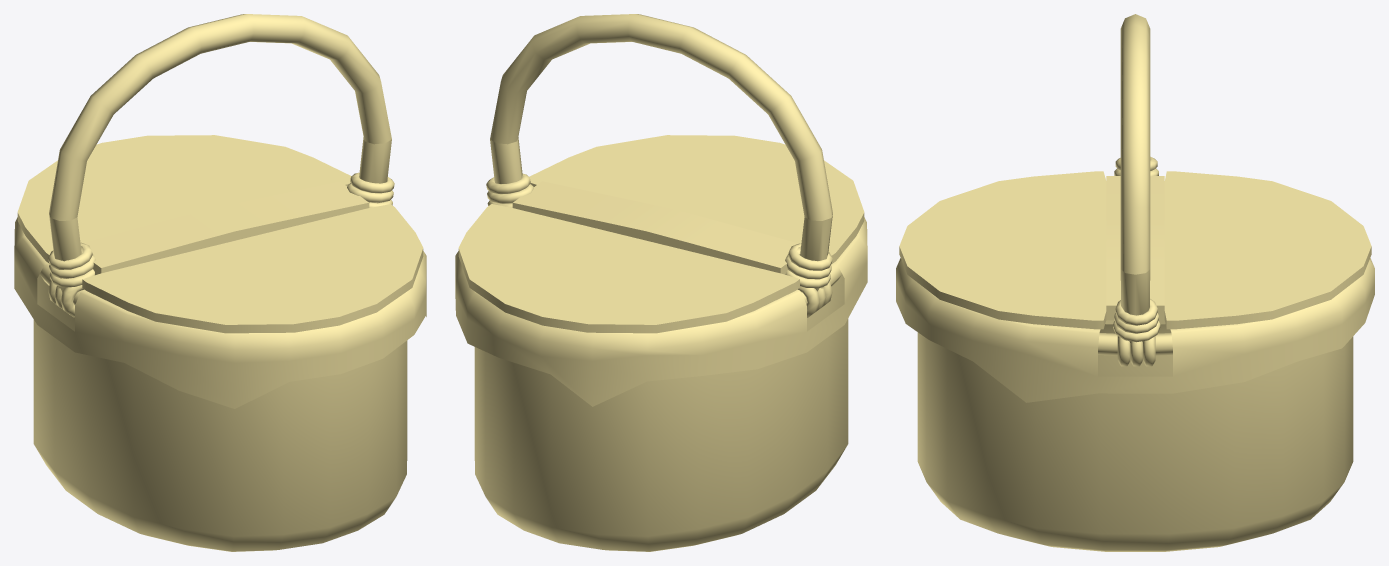
File: PicnicBasket.fbx
The picture shows the model from 3 angles, left to right: view 1: azimuth 30°, elevation 25°; view 2: azimuth 150°, elevation 25°; view 3: azimuth 270°, elevation 25°; orthographic projection.
Parts seen in each view (by area): view 1: PicnicBasket, PicnicBasketLid; view 2: PicnicBasket, PicnicBasketLid; view 3: PicnicBasket, PicnicBasketLid.
Part boxes in pixels (x1,y1,x2,y2): PicnicBasket: (14,14,426,551); PicnicBasketLid: (17,135,423,333); PicnicBasket: (455,14,867,551); PicnicBasketLid: (458,135,864,333); PicnicBasket: (896,14,1374,551); PicnicBasketLid: (899,171,1371,329).
Size of the model in its own units: 125 by 153 by 159.
